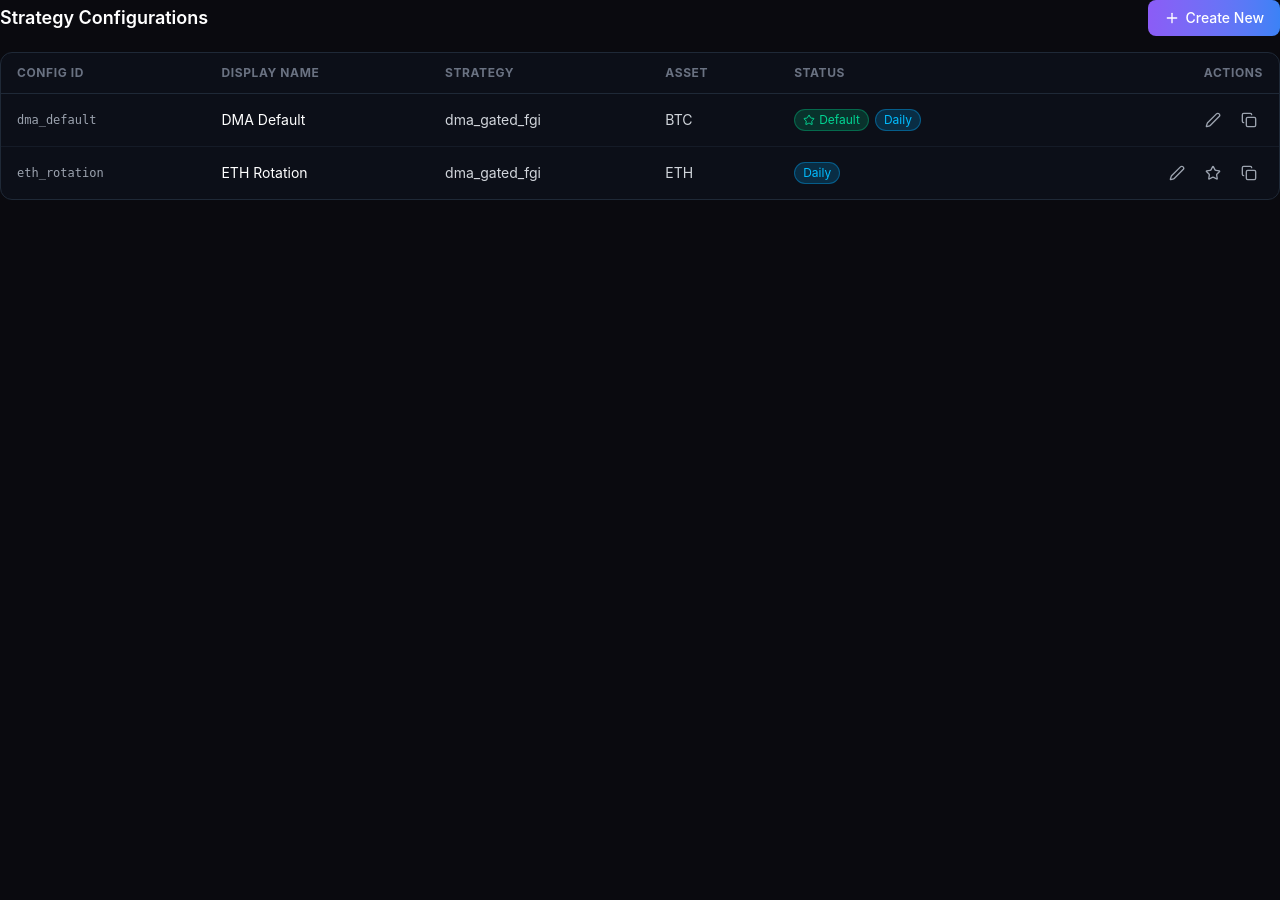
Test case: ConfigListView › set default confirmation modal › opens the confirmation modal when Set as Default is clicked
The width and height of the screenshot is (1280, 900).
Click the button titled "Set as Default": [1213, 173] box left=1199, top=159, right=1227, bottom=187
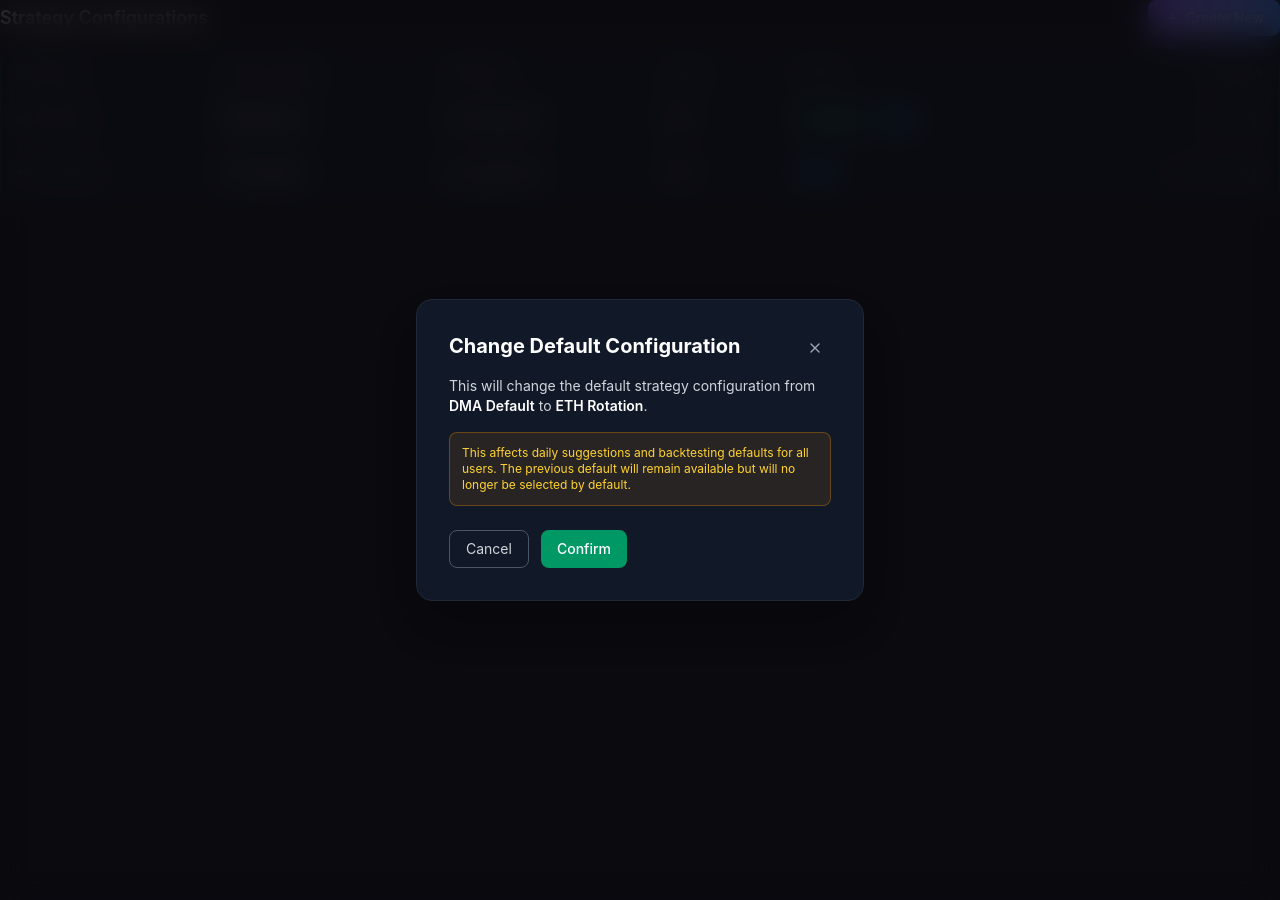
Expected: the heading "Change Default Configuration" is shown, left=449, top=334, right=740, bottom=358
